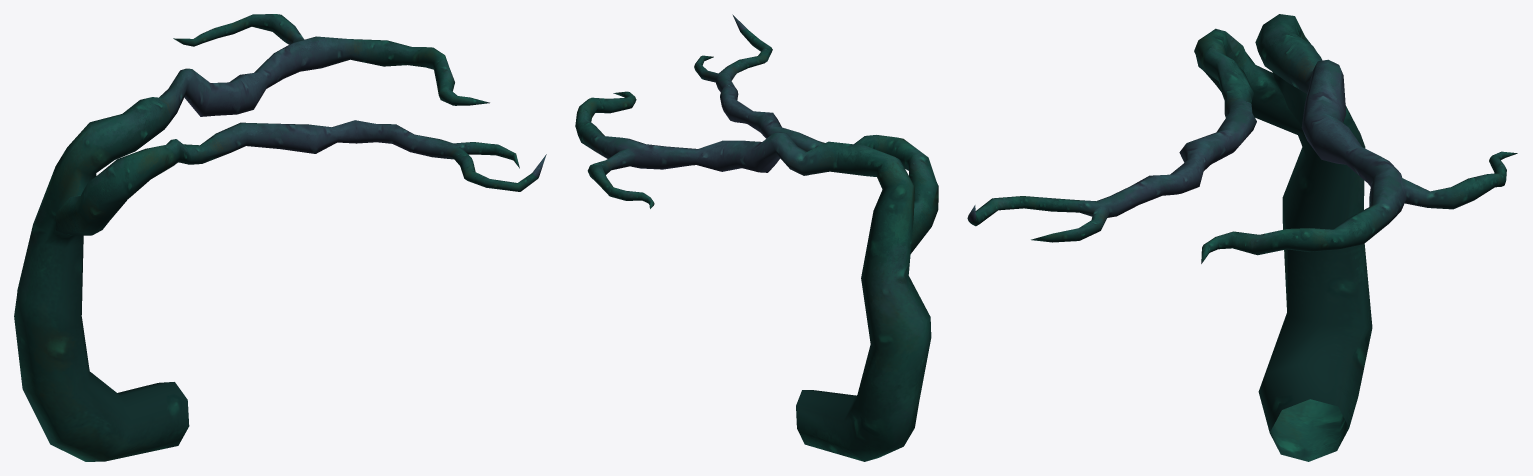
The model's file is SleepingGarden_Roots_02.fbx.
3 views of the same model, side by side, from view 1: azimuth 30°, elevation 25°; view 2: azimuth 150°, elevation 25°; view 3: azimuth 270°, elevation 25° (orthographic). The views are drawn at different scales.
Parts seen in each view (by area): view 1: SleepingGarden_Roots_02; view 2: SleepingGarden_Roots_02; view 3: SleepingGarden_Roots_02.
Boxes of the visible parts, x1,y1,x2,y2 form: SleepingGarden_Roots_02: [14, 14, 546, 461]; SleepingGarden_Roots_02: [575, 14, 938, 461]; SleepingGarden_Roots_02: [967, 14, 1517, 461].
Size of the model in its own units: 2.93 by 2.42 by 2.88.
1 material, 1 textured.
